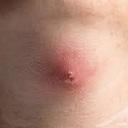Carbuncle: (61, 70, 80, 88)
